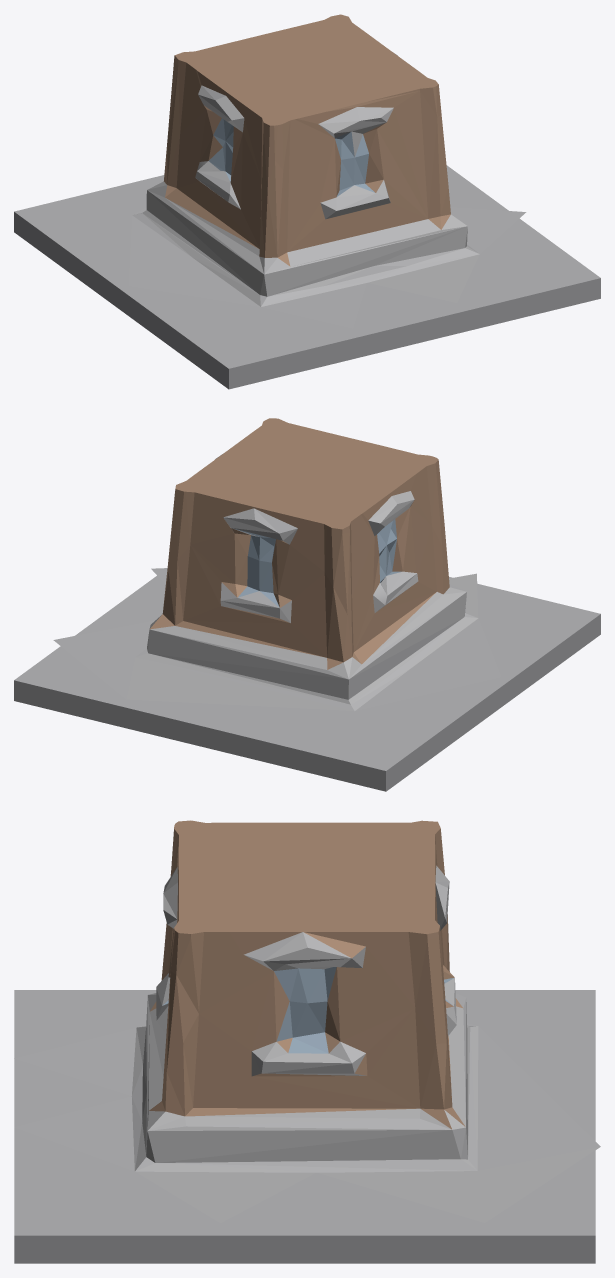
File: etape-1.glb
The picture shows the model from 3 angles, top to bottom: view 1: azimuth 30°, elevation 25°; view 2: azimuth 150°, elevation 25°; view 3: azimuth 270°, elevation 25°; orthographic projection. The views are drawn at different scales.
Visible parts, largest first — view 1: geometry_0; view 2: geometry_0; view 3: geometry_0.
Boxes of the visible parts, x1,y1,x2,y2 form: geometry_0: (14, 14, 600, 389); geometry_0: (14, 418, 600, 791); geometry_0: (14, 820, 600, 1263).
Bounding box in the file's own units: 0.6639 × 0.3299 × 0.6662.
